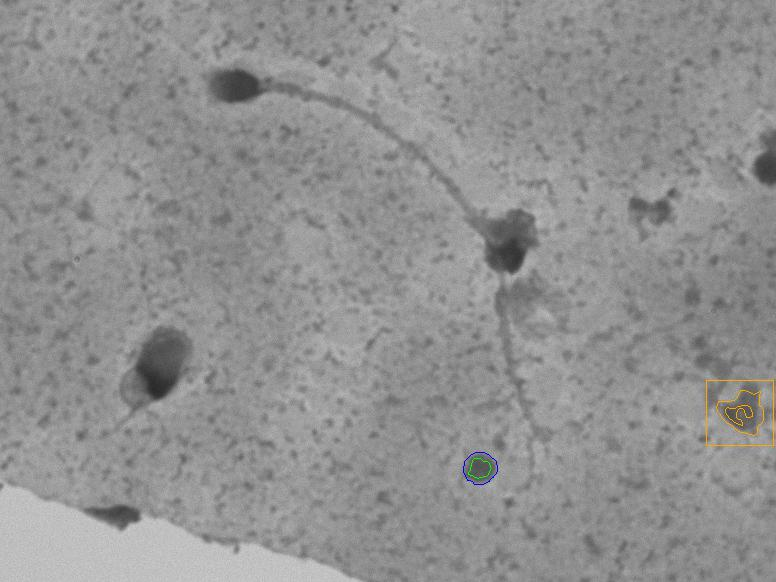Abnormal: (161, 13, 572, 474)
